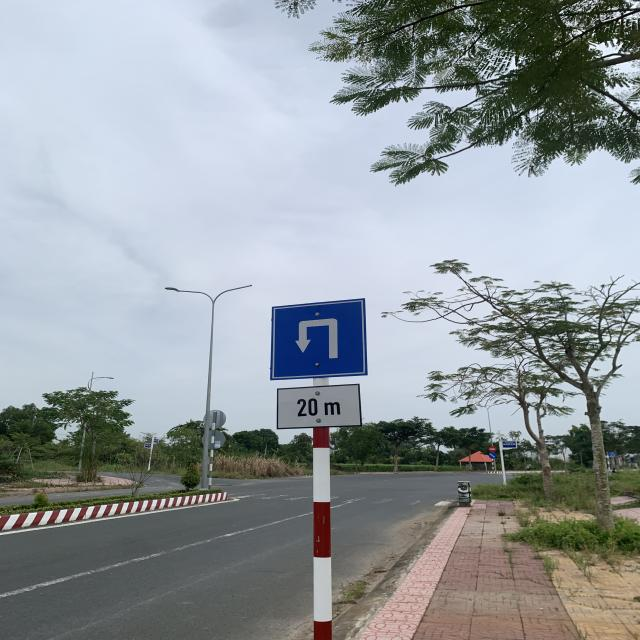Den_Giao_Thong: (274, 301, 365, 378)
